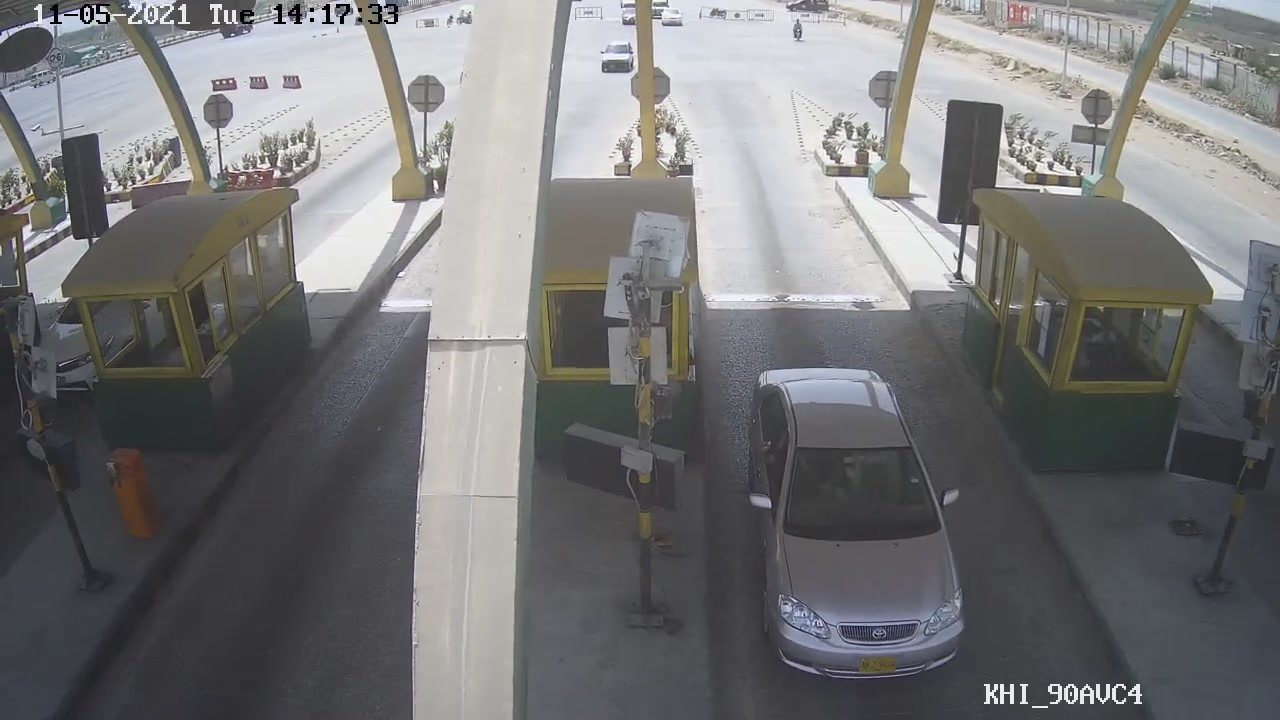F1: (738, 359, 965, 687)
